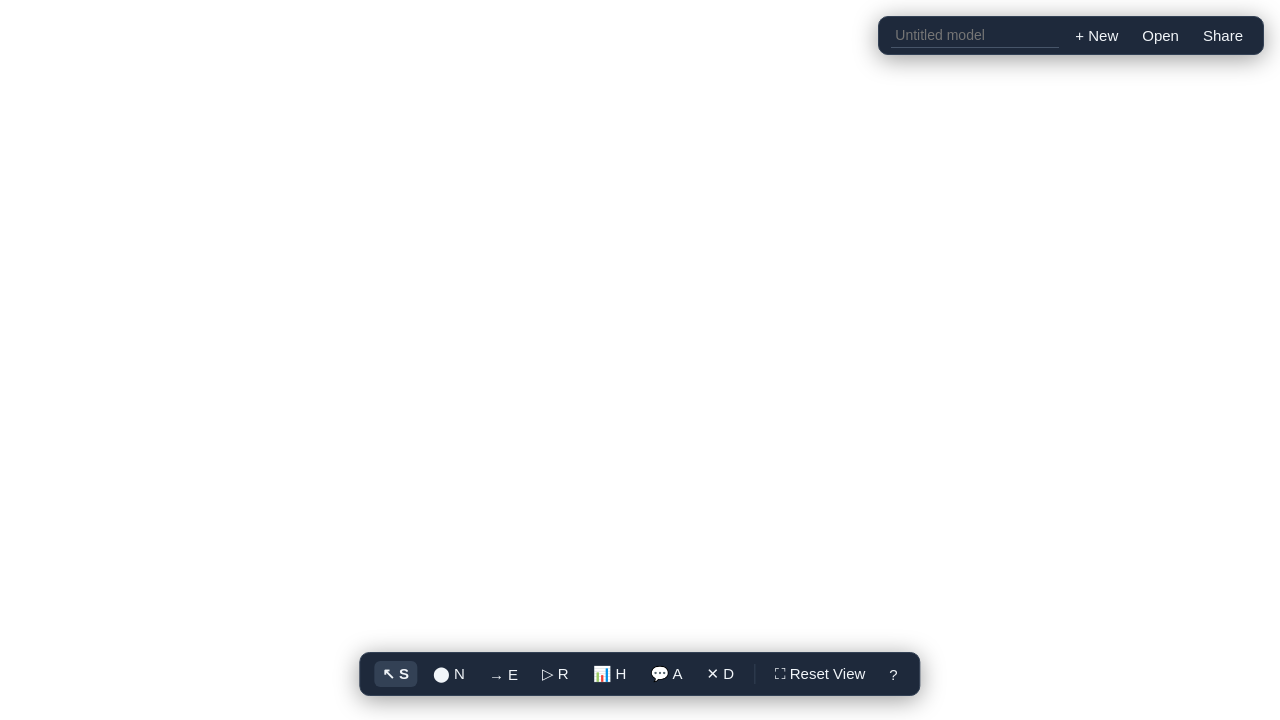
Open dropdown — delete button › renders a delete button for each model row
Step 1. Click the button titled "Open local model" → (1161, 36), box [1134,23,1187,48]
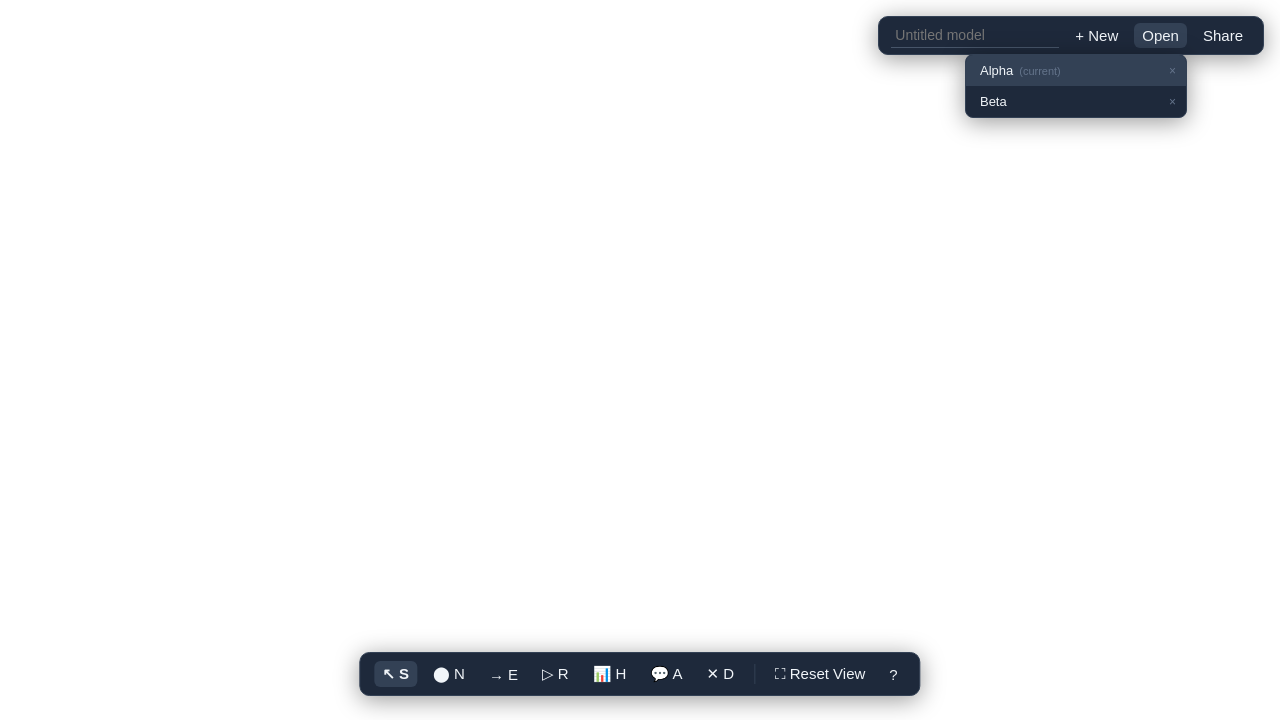
Expected: the number of buttons titled "Delete Alpha" is 2, [1159,56,1186,86]; [1159,86,1186,116]
